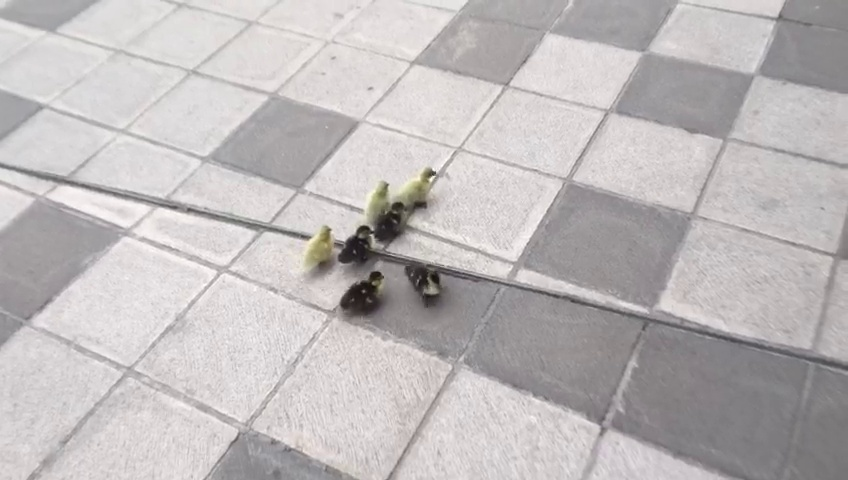patito: (338, 268, 388, 311), (406, 259, 443, 306), (399, 166, 437, 208), (339, 224, 375, 264), (376, 199, 408, 244), (302, 223, 333, 266), (364, 180, 392, 221)
